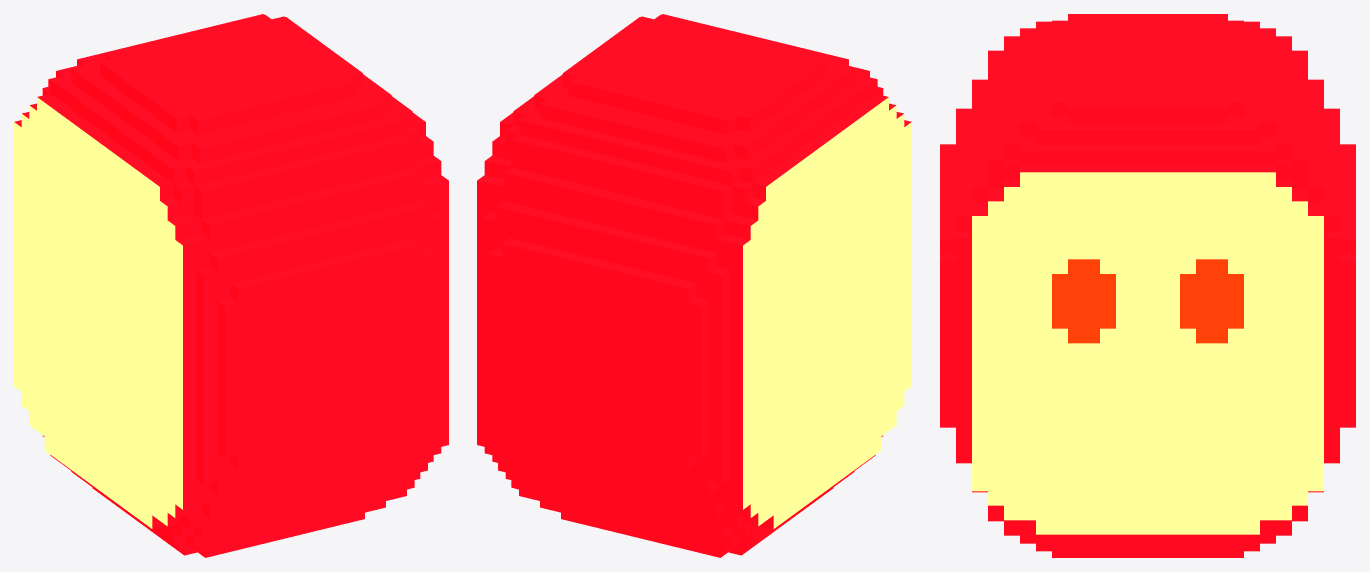
Rendered from SM_LivingEmber.fbx.
3 views of the same model, side by side, from view 1: azimuth 30°, elevation 25°; view 2: azimuth 150°, elevation 25°; view 3: azimuth 270°, elevation 25° (orthographic). The views are drawn at different scales.
Visible parts, largest first — view 1: SM_LivingEmber; view 2: SM_LivingEmber; view 3: SM_LivingEmber.
Boxes of the visible parts, left/top/right/bottom form: SM_LivingEmber: left=14, top=14, right=448, bottom=557; SM_LivingEmber: left=477, top=14, right=911, bottom=557; SM_LivingEmber: left=940, top=14, right=1355, bottom=557.
Size of the model in its own units: 200 by 310 by 260.
